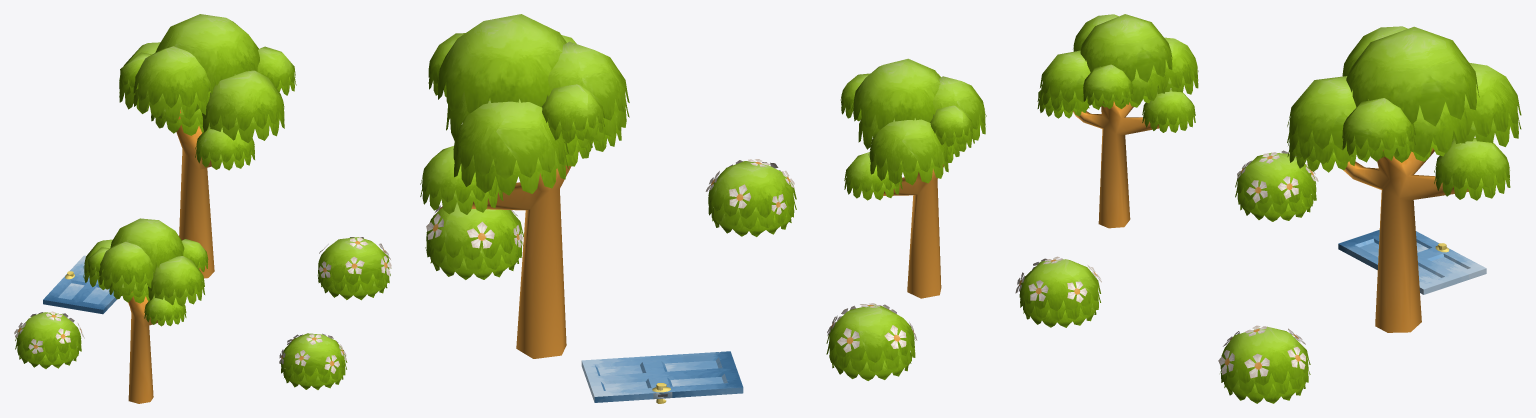
Rendered from Layout_OutdoorArrangement03.gltf.
The picture shows the model from 3 angles, left to right: view 1: azimuth 30°, elevation 25°; view 2: azimuth 150°, elevation 25°; view 3: azimuth 270°, elevation 25°; orthographic projection. The views are drawn at different scales.
Parts seen in each view (by area): view 1: Obj_Tree.005, Obj_Tree.004, Obj_Bush.007, Obj_Bush.006, Obj_Bush.008, Obj_Door_002.001; view 2: Obj_Tree.005, Obj_Tree.004, Obj_Door_002.001, Obj_Bush.007, Obj_Bush.008, Obj_Bush.006; view 3: Obj_Tree.005, Obj_Tree.004, Obj_Bush.007, Obj_Bush.008, Obj_Bush.006, Obj_Door_002.001.
Boxes of the visible parts, box(x1,y1,x2,y2) form: Obj_Tree.005: box(119, 14, 296, 278); Obj_Tree.004: box(83, 218, 208, 403); Obj_Bush.007: box(317, 237, 391, 300); Obj_Bush.006: box(14, 311, 84, 368); Obj_Bush.008: box(279, 333, 347, 389); Obj_Door_002.001: box(43, 255, 116, 314); Obj_Tree.005: box(420, 14, 629, 358); Obj_Tree.004: box(840, 58, 986, 298); Obj_Door_002.001: box(581, 351, 743, 403); Obj_Bush.007: box(425, 202, 523, 279); Obj_Bush.008: box(705, 159, 796, 236); Obj_Bush.006: box(826, 303, 917, 380); Obj_Tree.005: box(1287, 26, 1521, 332); Obj_Tree.004: box(1037, 14, 1198, 228); Obj_Bush.007: box(1218, 325, 1310, 403); Obj_Bush.008: box(1015, 256, 1101, 327); Obj_Bush.006: box(1235, 150, 1318, 221); Obj_Door_002.001: box(1338, 230, 1486, 294).
Size of what is drawn, in the model's own units: 13.61 by 8.8 by 13.4.
1 material, 1 textured.
